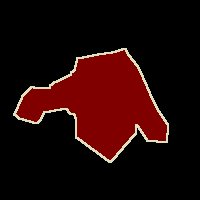tie: (14, 48, 168, 162)
